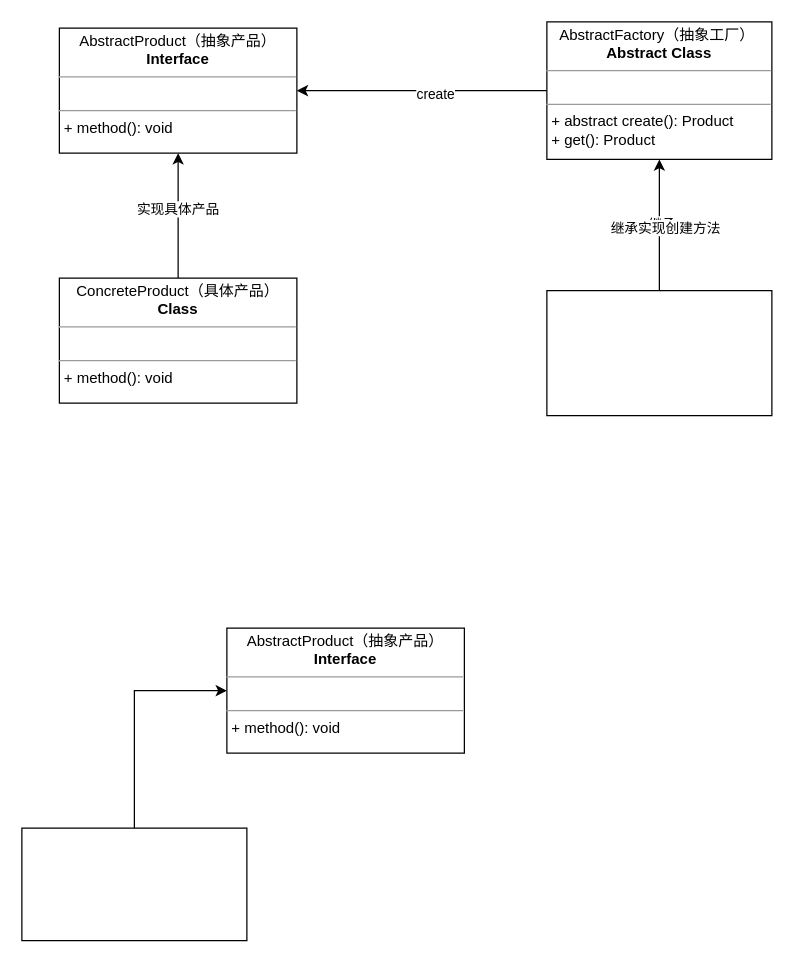
Some shapes in this 794 by 963 pixel diagram are drawn without their labels. The box of each missing label's shape, as (x1, y1, x2, y2) in pixels:
ConcreteFactory（具体工厂） Class + create(): Product: (546, 289, 772, 416)
ConcreteProductA（具体产品） + method(): void: (21, 827, 247, 941)
